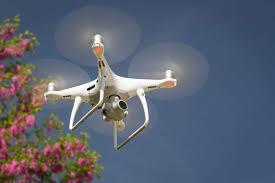drone: (44, 34, 177, 153)
